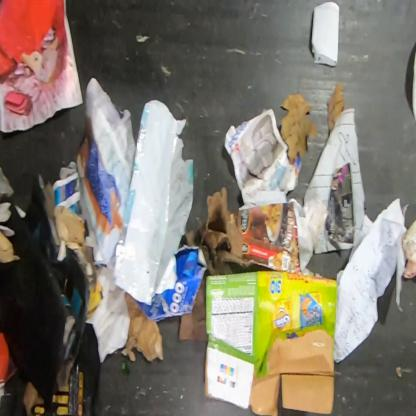cardboard: (204, 269, 337, 415), (197, 187, 328, 272), (120, 292, 163, 361), (0, 229, 14, 263)
soft_plastic: (114, 101, 195, 307)
